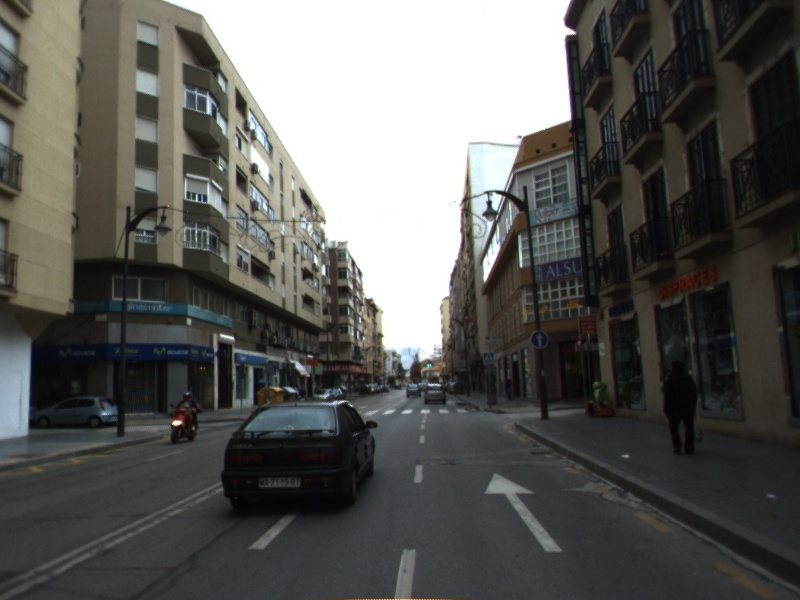STRAIGHT: (481, 469, 565, 555)
